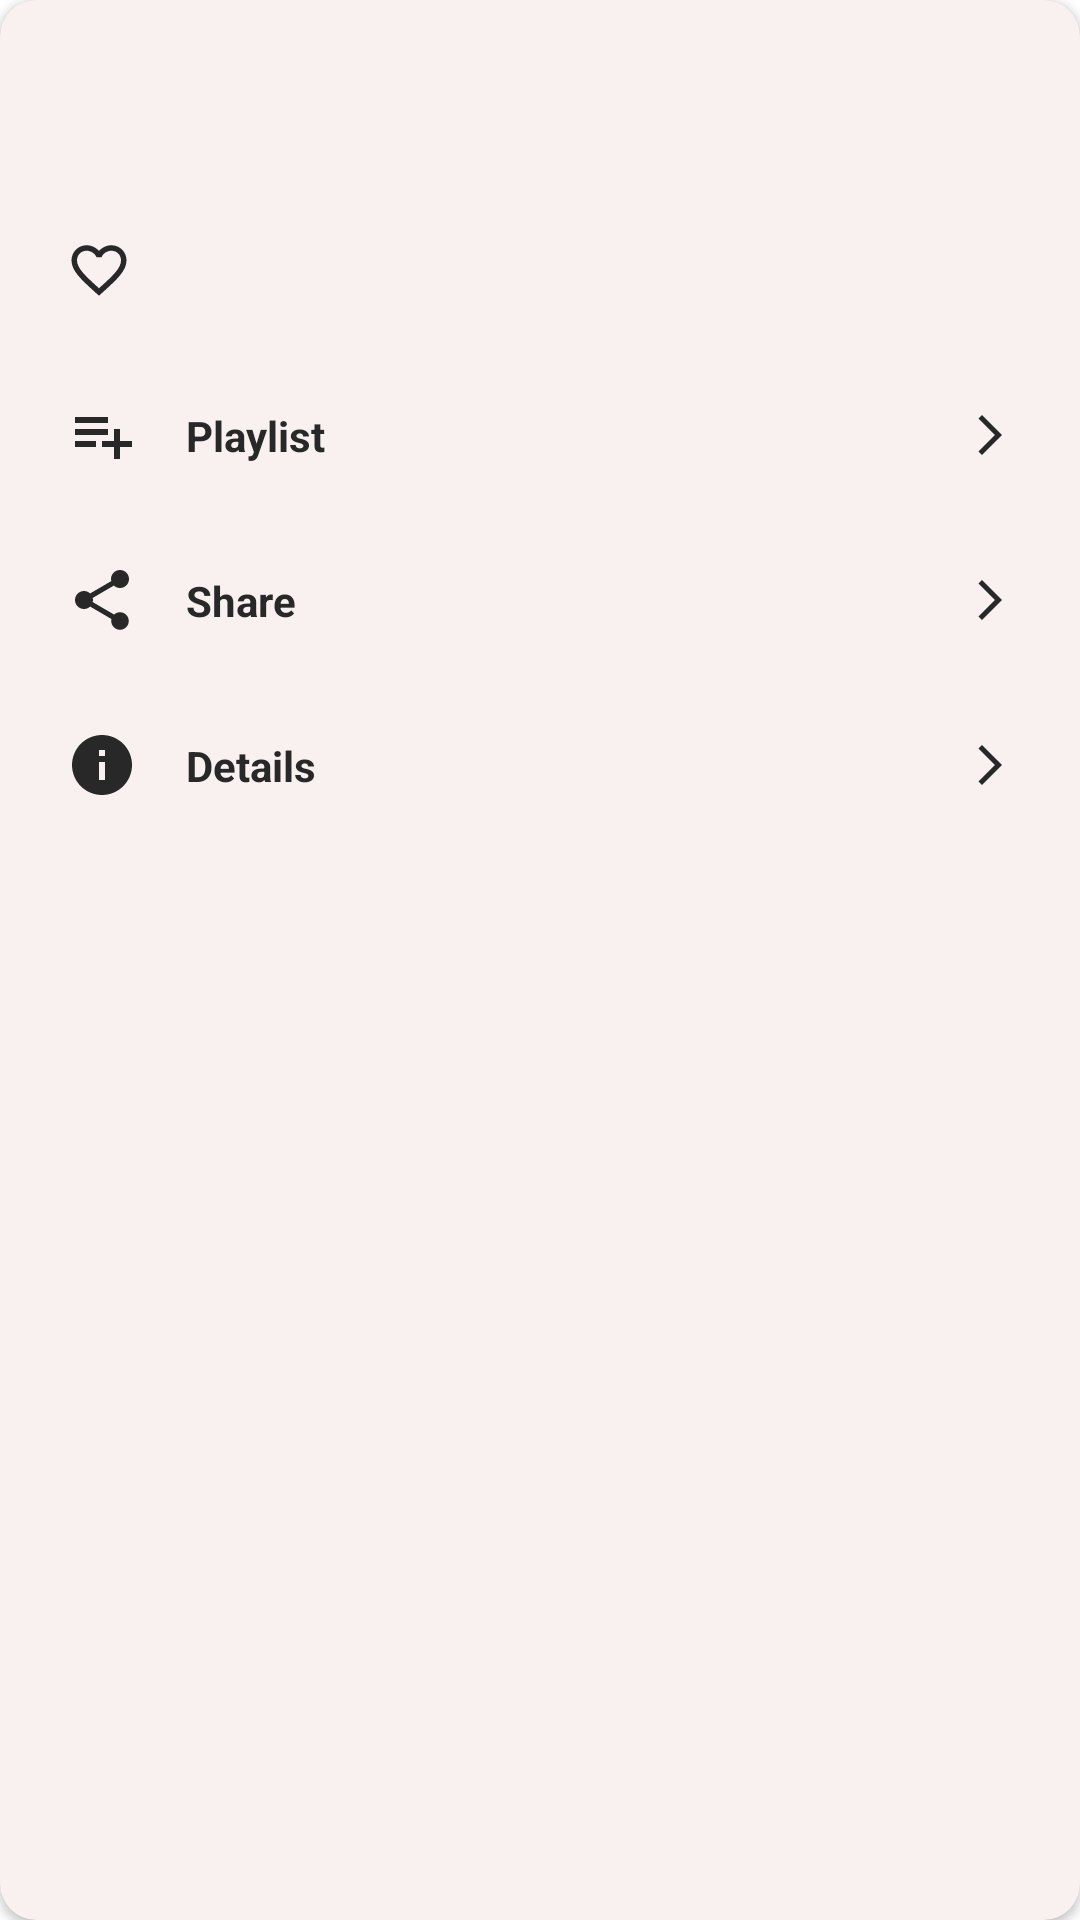

Locate icon controls on the screen. Image size 1080 x 1920, boxes as (x1, y1, x2, y2).
favorite border: (71, 245, 127, 296)
